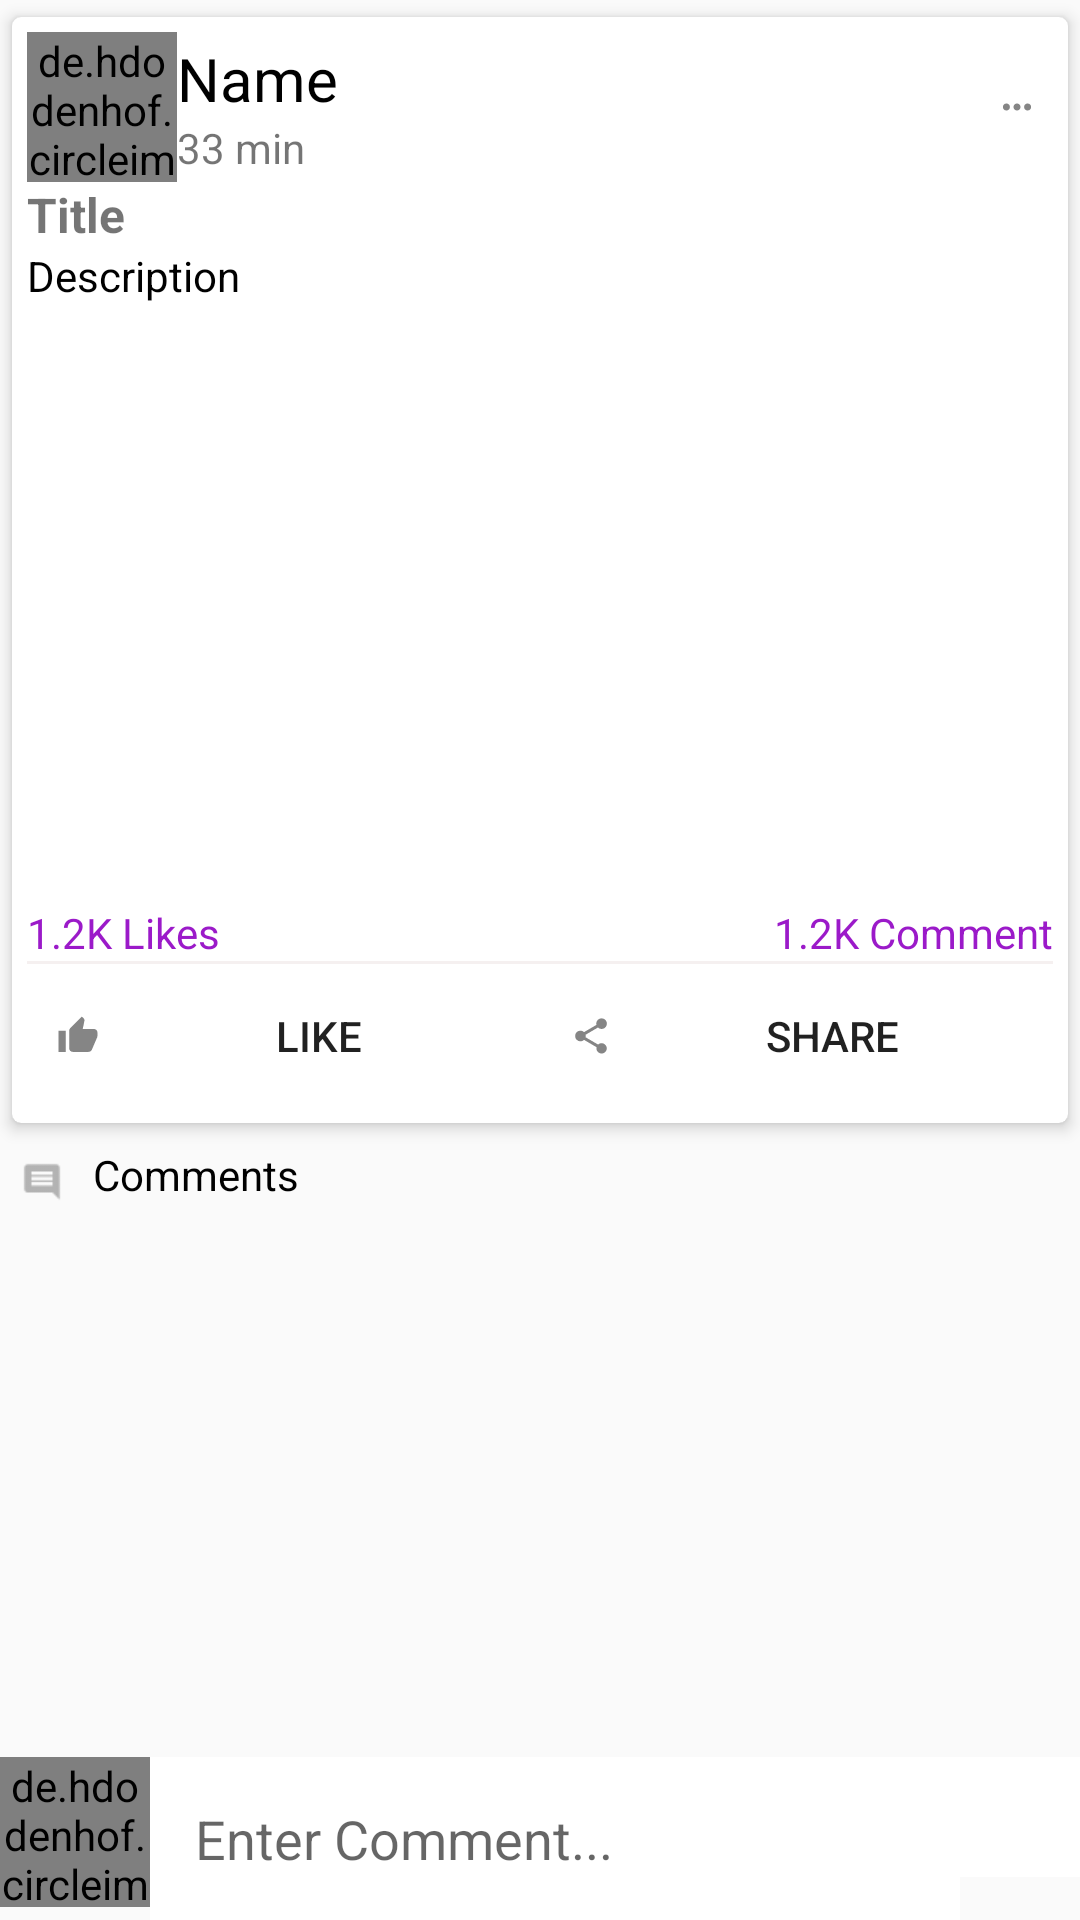

Where icons sit on this 1080px×1920px app screen, as {"x1": x1, "y1": y1, "x2": x2, "y2": y2}:
more: {"x1": 1003, "y1": 103, "x2": 1031, "y2": 111}
